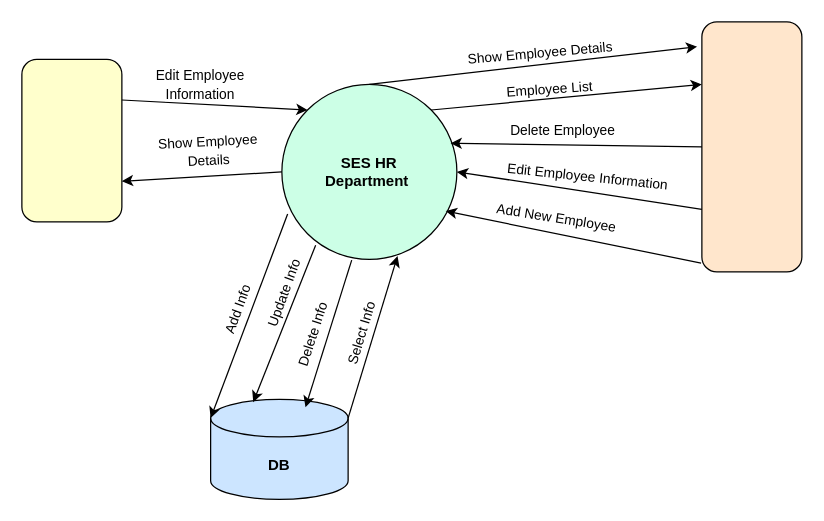
Some shapes in this 824 by 521 pixel diagram are drawn without their labels. Each missing label, with the centre of its shape:
"Employee" goes at (x=71, y=140).
"Manager" goes at (x=751, y=146).
